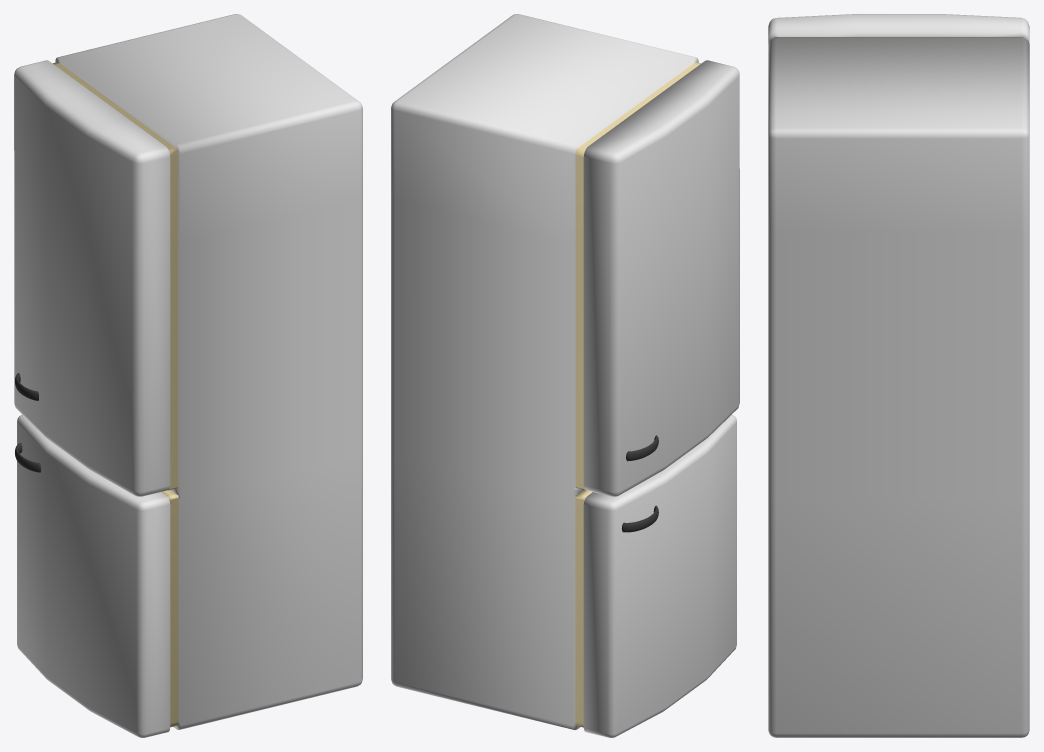
Rendered from nevera.fbx.
The picture shows the model from 3 angles, left to right: view 1: azimuth 30°, elevation 25°; view 2: azimuth 150°, elevation 25°; view 3: azimuth 270°, elevation 25°; orthographic projection. The views are drawn at different scales.
Visible parts, largest first — view 1: nevera, puerta arriba, puerta abajo; view 2: nevera, puerta arriba, puerta abajo; view 3: nevera, puerta arriba.
Part boxes in pixels (x1=…): nevera: x1=52, y1=14, x2=362, y2=729; puerta arriba: x1=14, y1=60, x2=170, y2=496; puerta abajo: x1=15, y1=414, x2=170, y2=737; nevera: x1=391, y1=14, x2=701, y2=729; puerta arriba: x1=583, y1=60, x2=739, y2=496; puerta abajo: x1=583, y1=414, x2=736, y2=737; nevera: x1=768, y1=37, x2=1029, y2=737; puerta arriba: x1=768, y1=14, x2=1029, y2=43.
Size of the model in its own units: 68.33 by 158 by 61.49.
